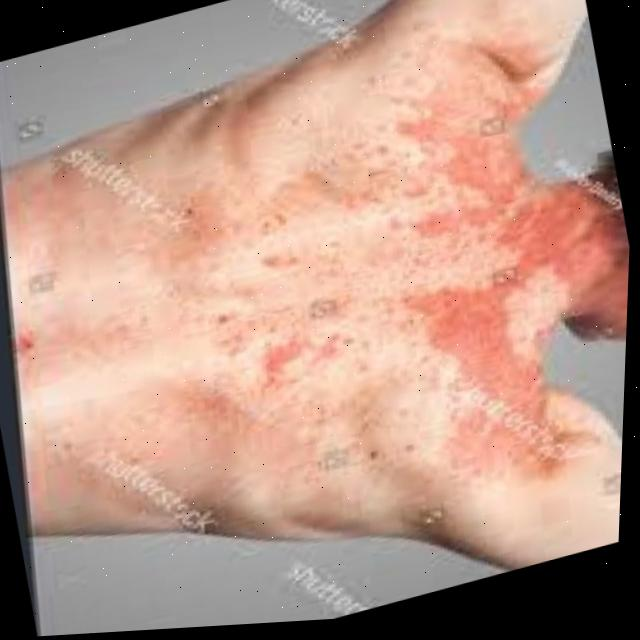Eczema: (356, 87, 635, 487)
